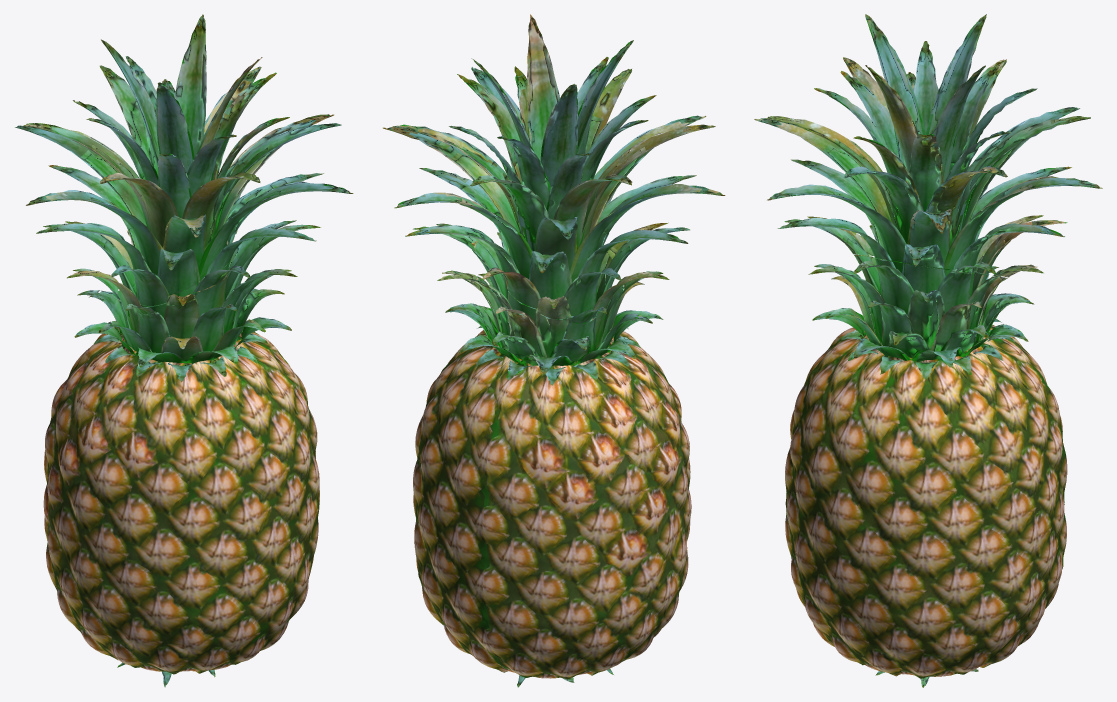
Rendered from pineapple_pieces.fbx.
The picture shows the model from 3 angles, left to right: view 1: azimuth 30°, elevation 25°; view 2: azimuth 150°, elevation 25°; view 3: azimuth 270°, elevation 25°; orthographic projection. The views are drawn at different scales.
Parts seen in each view (by area): view 1: pineapple_whole_cell.001, pineapple_whole_cell, pineapple_whole_cell.002, pineapple_whole_cell.017, pineapple_whole_cell.010, pineapple_whole_cell.015, pineapple_whole_cell.014, pineapple_whole_cell.007, pineapple_whole_cell.013; view 2: pineapple_whole_cell.001, pineapple_whole_cell, pineapple_whole_cell.002, pineapple_whole_cell.017, pineapple_whole_cell.014, pineapple_whole_cell.011, pineapple_whole_cell.010, pineapple_whole_cell.007; view 3: pineapple_whole_cell.001, pineapple_whole_cell, pineapple_whole_cell.002, pineapple_whole_cell.017, pineapple_whole_cell.015, pineapple_whole_cell.014, pineapple_whole_cell.011, pineapple_whole_cell.013.
Part boxes in pixels (bbox=[...]): pineapple_whole_cell.001: bbox=[43, 230, 319, 687]; pineapple_whole_cell: bbox=[24, 14, 341, 247]; pineapple_whole_cell.002: bbox=[15, 79, 353, 295]; pineapple_whole_cell.017: bbox=[127, 220, 320, 338]; pineapple_whole_cell.010: bbox=[111, 265, 168, 305]; pineapple_whole_cell.015: bbox=[206, 228, 316, 274]; pineapple_whole_cell.014: bbox=[226, 173, 323, 244]; pineapple_whole_cell.007: bbox=[67, 270, 142, 306]; pineapple_whole_cell.013: bbox=[193, 265, 250, 292]; pineapple_whole_cell.001: bbox=[413, 232, 691, 687]; pineapple_whole_cell: bbox=[392, 14, 715, 250]; pineapple_whole_cell.002: bbox=[383, 115, 725, 318]; pineapple_whole_cell.017: bbox=[436, 223, 612, 357]; pineapple_whole_cell.014: bbox=[419, 168, 507, 252]; pineapple_whole_cell.011: bbox=[481, 267, 540, 308]; pineapple_whole_cell.010: bbox=[602, 227, 689, 294]; pineapple_whole_cell.007: bbox=[593, 272, 669, 312]; pineapple_whole_cell.001: bbox=[785, 259, 1067, 687]; pineapple_whole_cell: bbox=[765, 14, 1090, 246]; pineapple_whole_cell.002: bbox=[754, 72, 1102, 272]; pineapple_whole_cell.017: bbox=[808, 255, 998, 350]; pineapple_whole_cell.015: bbox=[777, 217, 891, 260]; pineapple_whole_cell.014: bbox=[902, 244, 944, 268]; pineapple_whole_cell.011: bbox=[977, 220, 1067, 274]; pineapple_whole_cell.013: bbox=[784, 219, 868, 255].
Bounding box in the file's own units: 99.04 × 178 × 90.34.
